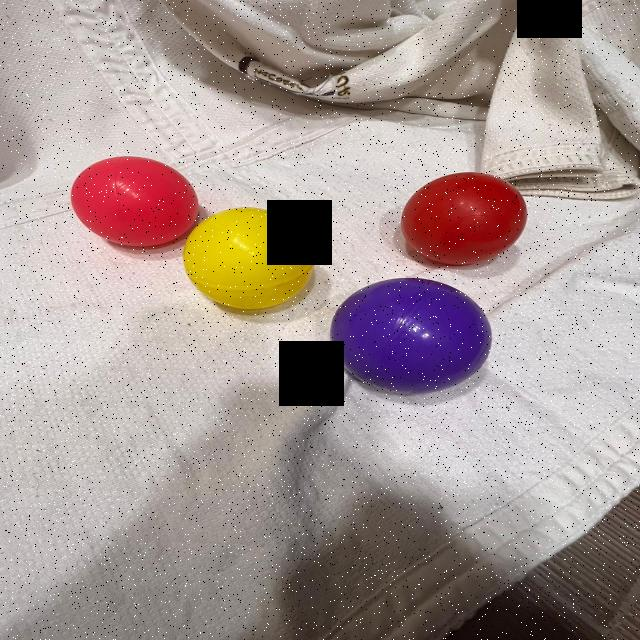ball: (325, 274, 494, 395), (178, 205, 320, 315), (397, 169, 529, 269), (67, 154, 201, 249)
